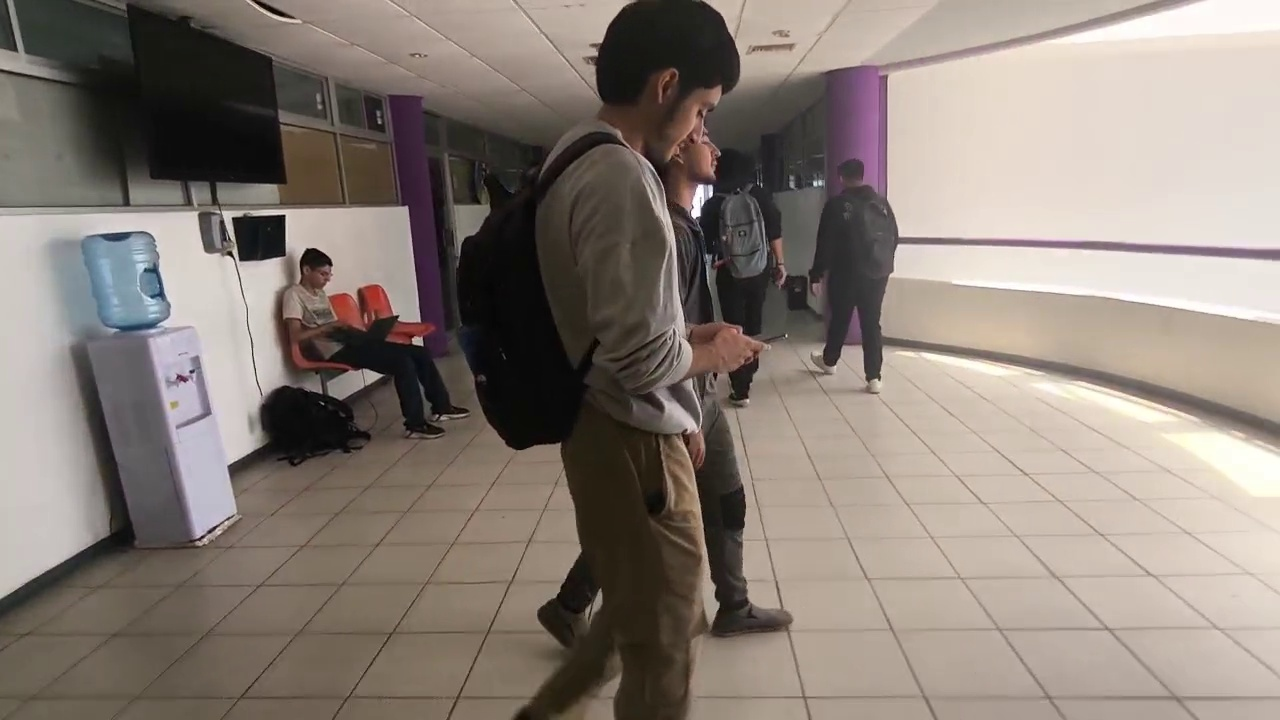mixto2: (738, 320, 796, 350)
